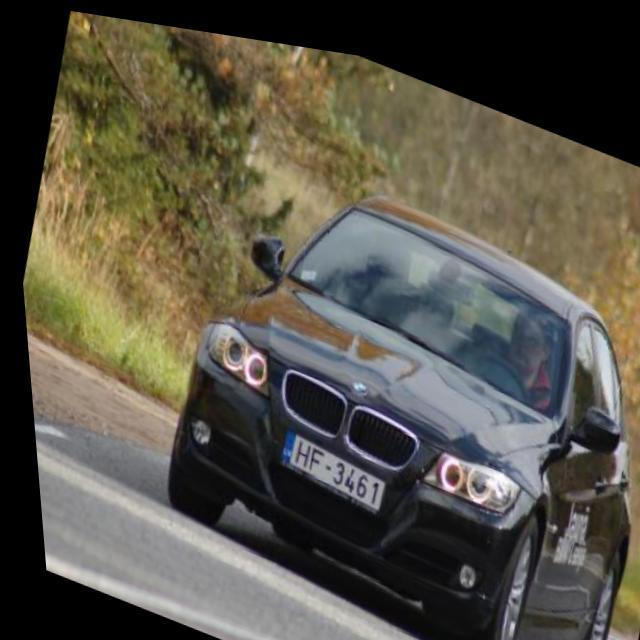license_plate: (266, 417, 386, 508)
